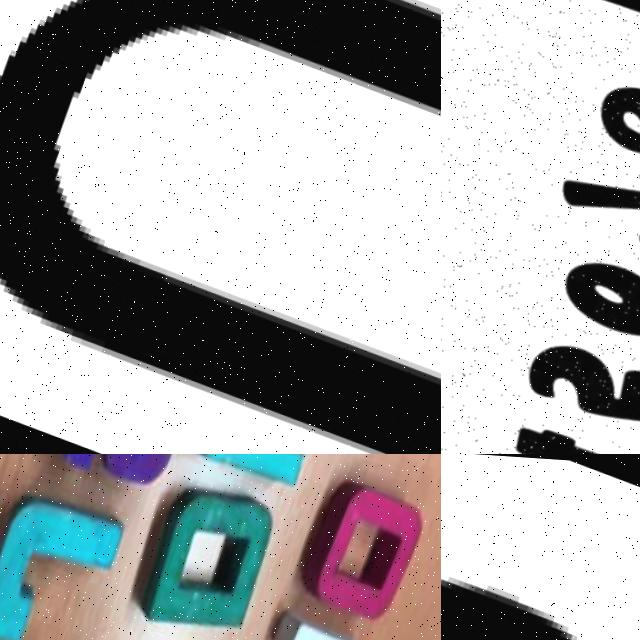4: (482, 378, 640, 454)
5: (506, 301, 640, 454)
6: (441, 507, 640, 640), (544, 218, 640, 365)
7: (526, 117, 640, 289)
8: (567, 39, 640, 201)
D: (135, 476, 285, 640)
H: (238, 584, 380, 640)
J: (0, 466, 138, 640)
O: (290, 471, 428, 626)
S: (34, 454, 217, 506)
U: (0, 0, 441, 454)
V: (172, 454, 331, 505)
